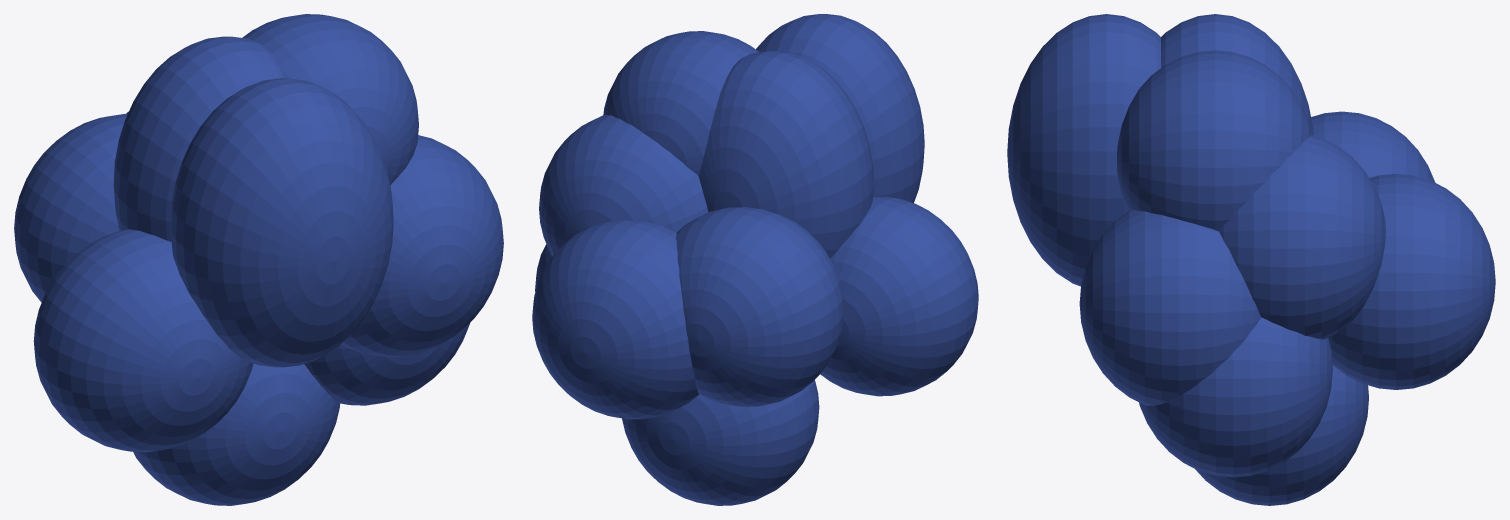
The model's file is tinker.obj.
3 views of the same model, side by side, from view 1: azimuth 30°, elevation 25°; view 2: azimuth 150°, elevation 25°; view 3: azimuth 270°, elevation 25° (orthographic). The views are drawn at different scales.
Visible parts, largest first — view 1: obj_0; view 2: obj_0; view 3: obj_0.
Boxes of the visible parts, x1,y1,x2,y2 form: obj_0: (14, 14, 503, 505); obj_0: (532, 14, 978, 505); obj_0: (1007, 14, 1495, 505).
Size of the model in its own units: 27 by 28 by 27.
